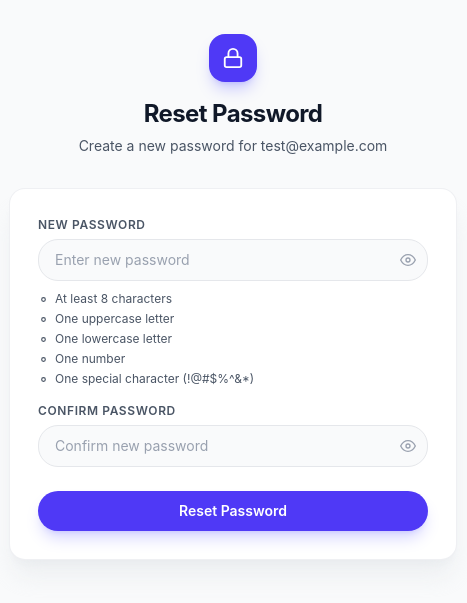
it: ResetPasswordPage › Password Strength Indicator › should show strong strength for complex password
Type "StrongP@ss123" into the password field labelled "New Password" at (233, 260), box 38,239 -> 428,281
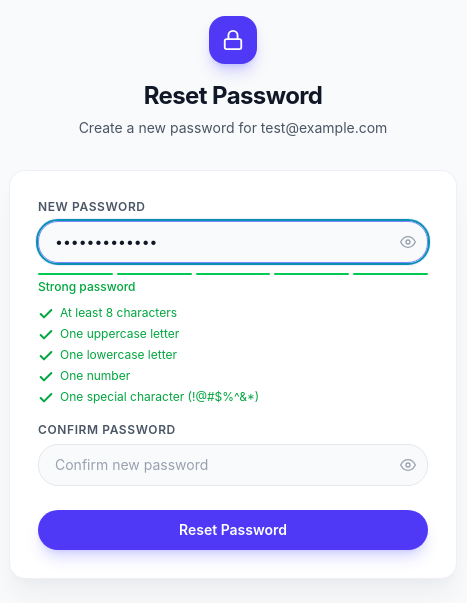
Expected: the text "Strong password" is shown, 38,278 -> 136,294
